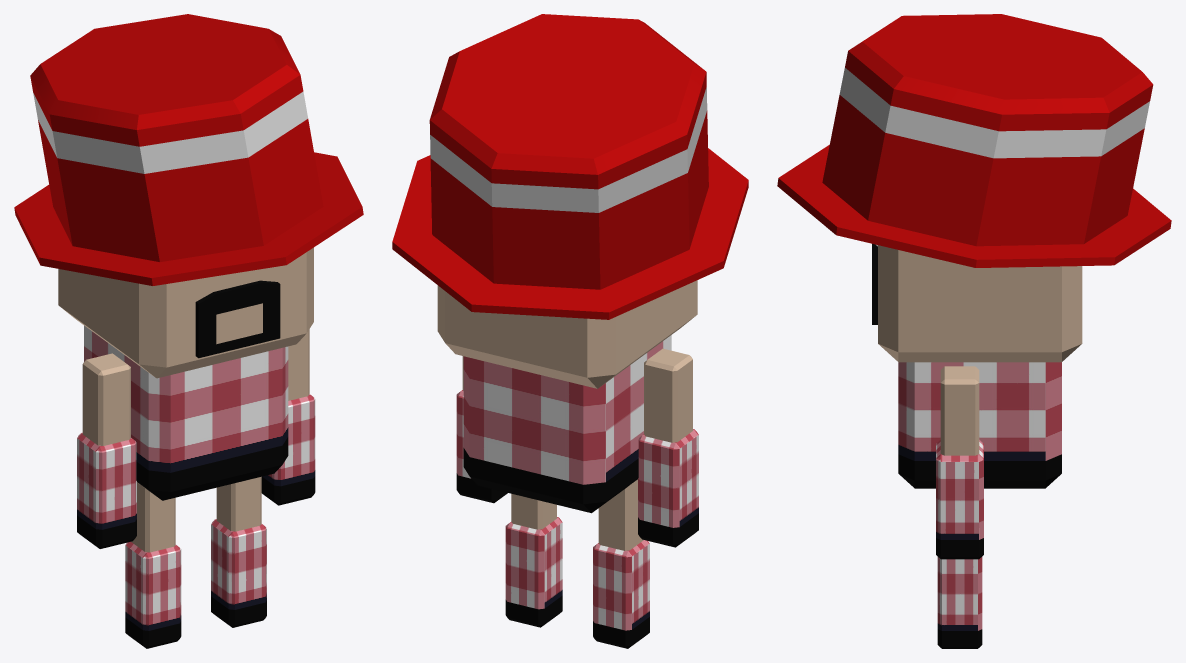
The model's file is character.fbx.
The picture shows the model from 3 angles, left to right: view 1: azimuth 30°, elevation 25°; view 2: azimuth 150°, elevation 25°; view 3: azimuth 270°, elevation 25°; orthographic projection.
Visible parts, largest first — view 1: hat, head, body, r_arm, r_leg, l_leg, r_hand, l_arm, r_thigh, l_thigh, l_hand; view 2: hat, body, head, r_arm, l_leg, r_leg, r_hand, r_thigh, l_arm, l_thigh; view 3: hat, head, body, l_arm, l_leg, l_hand.
Boxes of the visible parts, <box> form: hat: <box>14,14,363,285</box>; head: <box>58,247,313,378</box>; body: <box>84,325,288,500</box>; r_arm: <box>77,432,136,548</box>; r_leg: <box>125,541,181,648</box>; l_leg: <box>211,519,266,627</box>; r_hand: <box>82,353,130,445</box>; l_arm: <box>261,394,315,505</box>; r_thigh: <box>131,482,175,552</box>; l_thigh: <box>216,476,261,531</box>; l_hand: <box>288,329,309,400</box>; hat: <box>392,14,748,319</box>; body: <box>463,335,671,513</box>; head: <box>437,280,697,388</box>; r_arm: <box>638,429,698,547</box>; l_leg: <box>505,517,562,627</box>; r_leg: <box>593,540,649,648</box>; r_hand: <box>644,348,692,442</box>; r_thigh: <box>598,479,643,550</box>; l_arm: <box>456,390,507,503</box>; l_thigh: <box>511,493,556,529</box>; hat: <box>777,14,1171,267</box>; head: <box>872,244,1082,362</box>; body: <box>898,362,1061,488</box>; l_arm: <box>936,440,983,559</box>; l_leg: <box>937,557,982,648</box>; l_hand: <box>940,366,979,455</box>.
Size of the model in its own units: 1.72 by 3.1 by 1.93.
Materials: 6 (1 with a texture image).
